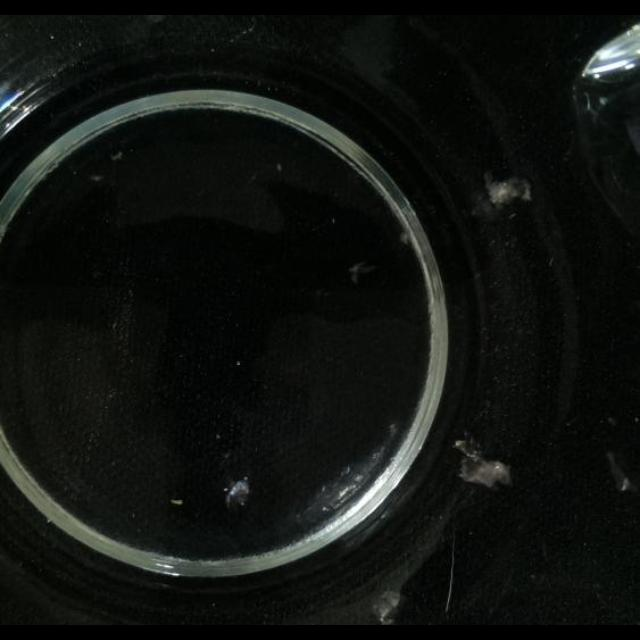Fibre: (454, 441, 512, 492), (488, 174, 530, 206), (605, 450, 637, 492), (372, 590, 403, 622), (223, 478, 250, 509), (348, 261, 376, 285), (399, 228, 413, 246), (110, 151, 124, 161), (90, 172, 104, 182)
microbeads: (548, 256, 554, 266)
